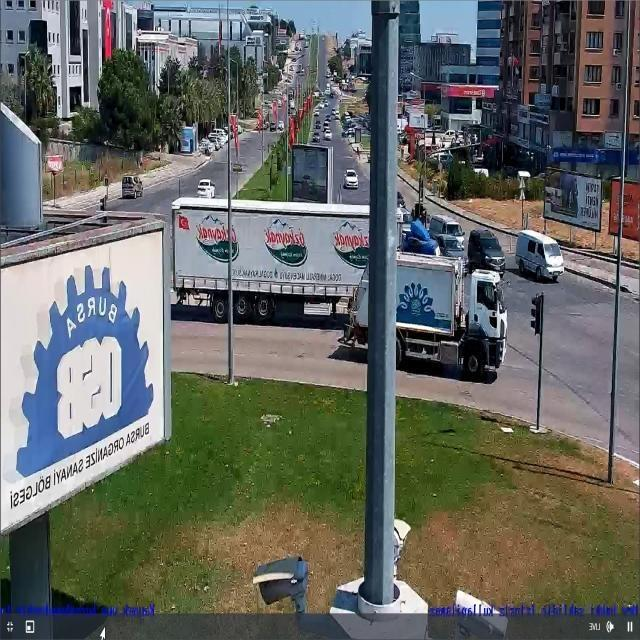Car: (470, 231, 506, 275), (123, 175, 143, 198), (343, 167, 359, 190), (196, 180, 216, 197), (440, 130, 458, 142), (342, 127, 356, 138), (312, 132, 321, 142), (324, 129, 332, 139)
Truck: (166, 196, 441, 321), (333, 250, 508, 372)
Van: (516, 232, 568, 280), (428, 214, 465, 251)
